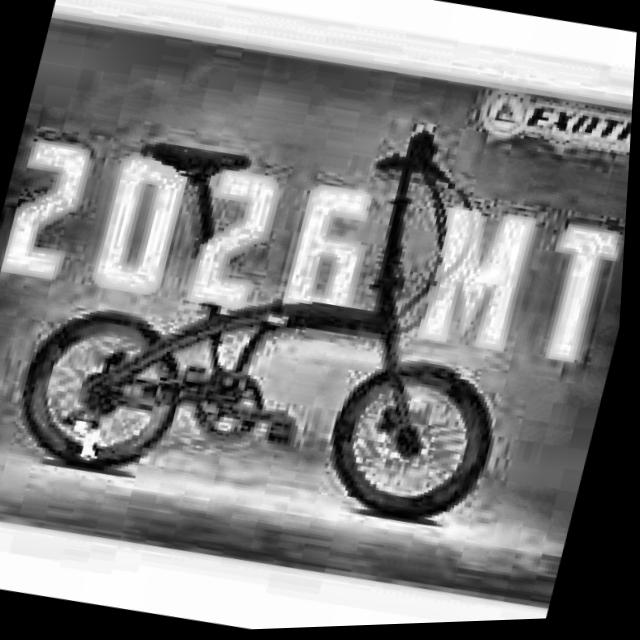motorcycle: (12, 68, 580, 549)
